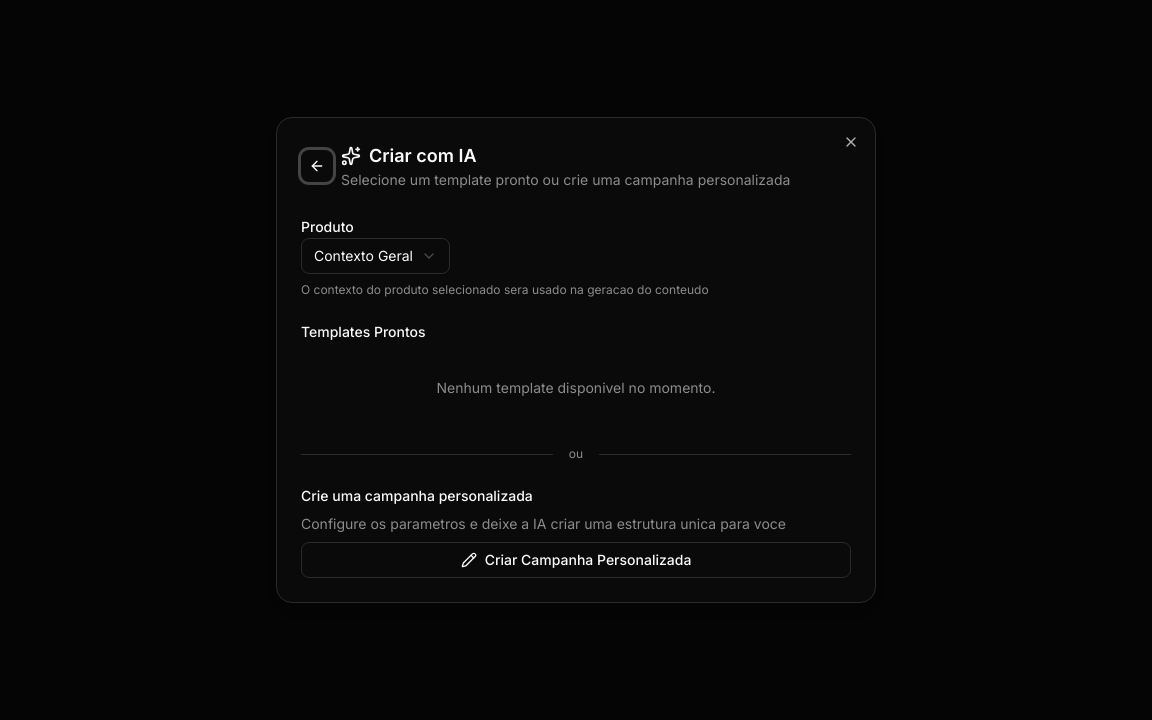
Scenario: AI Full Campaign Generation Integration › Back Navigation › returns to form when back button clicked from strategy summary
This screenshot has width=1152, height=720.
Click the button with test id "template-custom-button" at (576, 560), box [301,542,851,578]
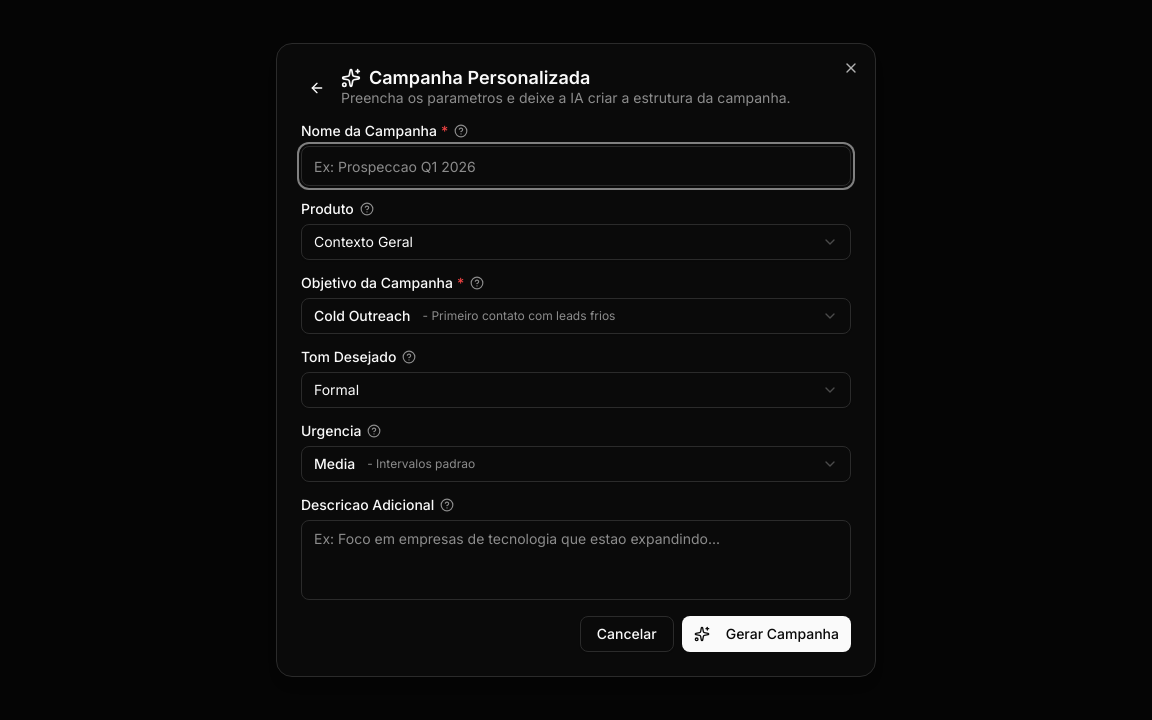
Expected: the field with test id "wizard-campaign-name" is shown
Type "Test Campaign" into the field with test id "wizard-campaign-name" at (576, 166), box [301,146,851,186]
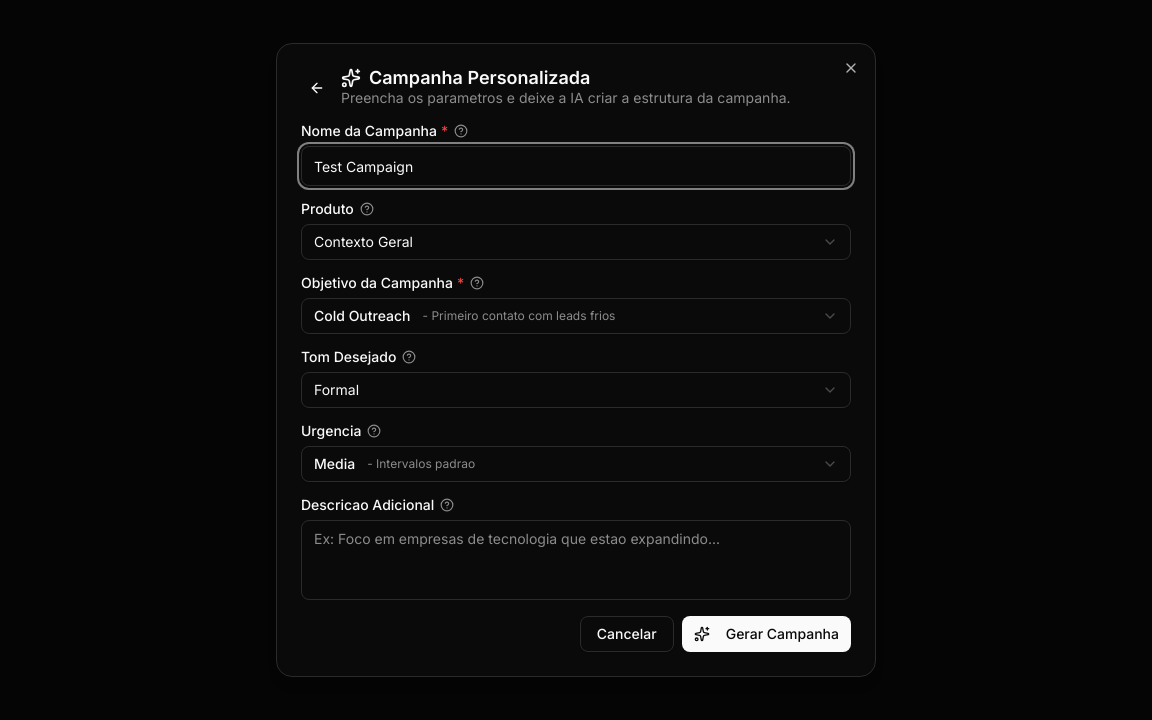
Click the button with test id "generate-campaign-submit" at (766, 634), box [682,616,851,652]
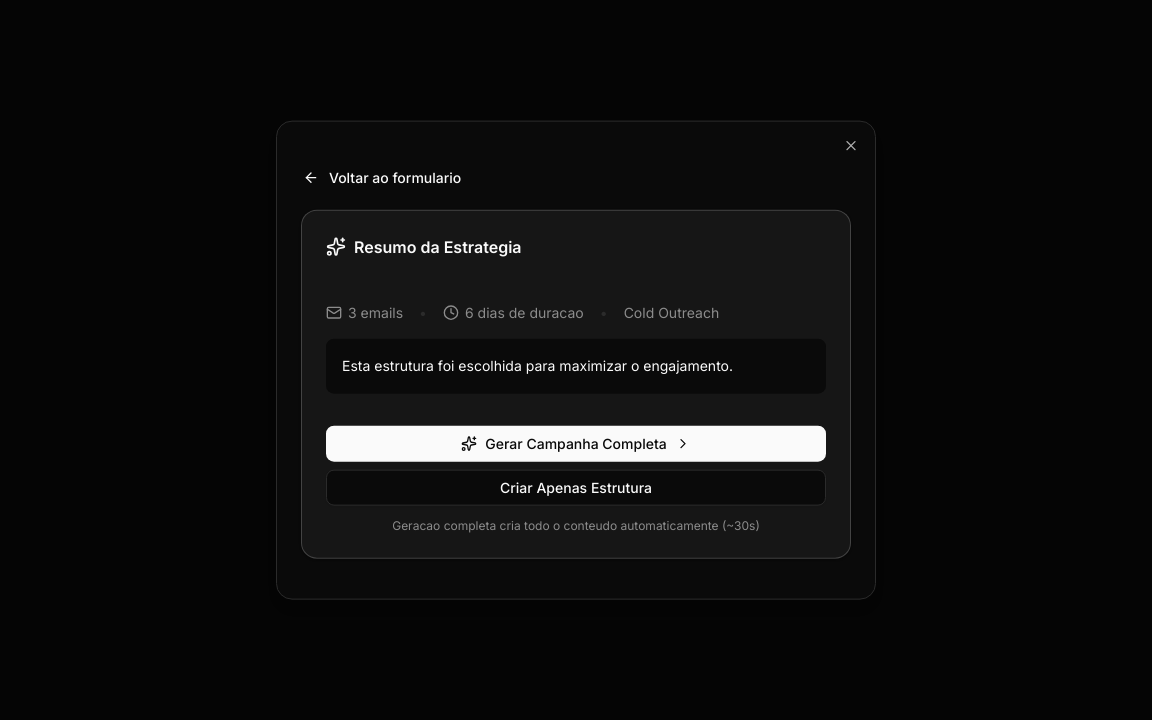
Expected: the button with test id "strategy-back-button" is shown
Click the button with test id "strategy-back-button" at (382, 178), box [293,162,471,194]
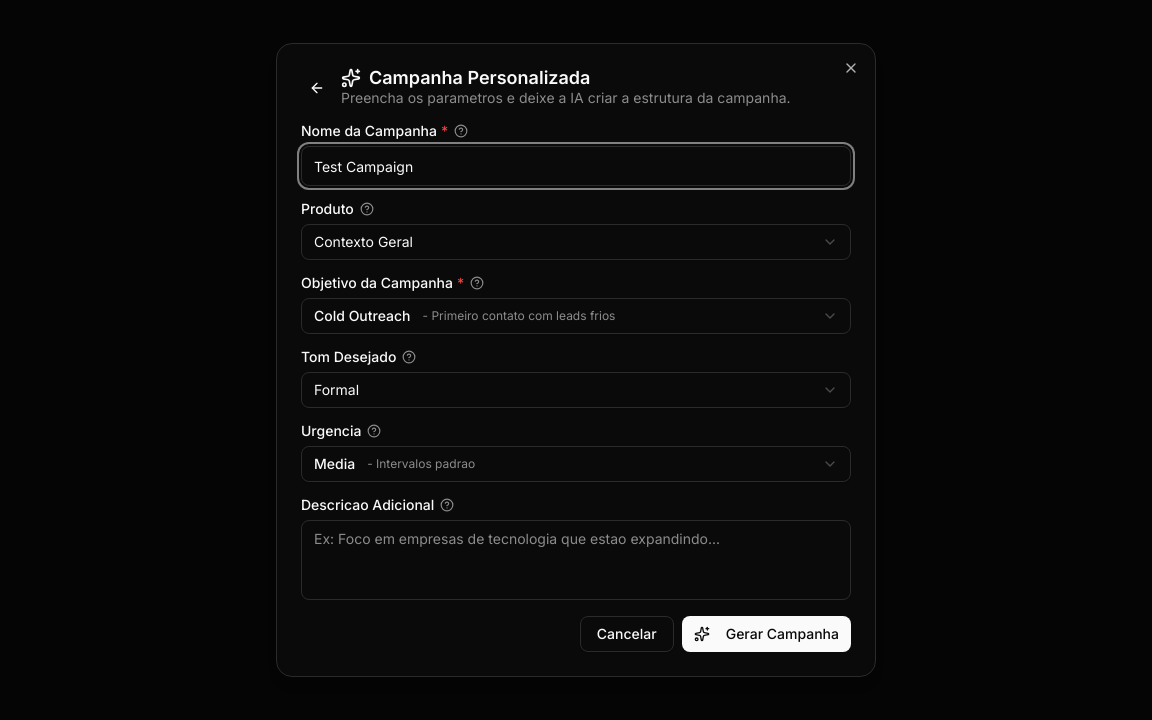
Expected: the field with test id "wizard-campaign-name" is shown, [301,146,851,186]
